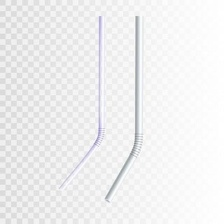drinking_straw: (53, 12, 110, 193), (101, 12, 149, 206)
